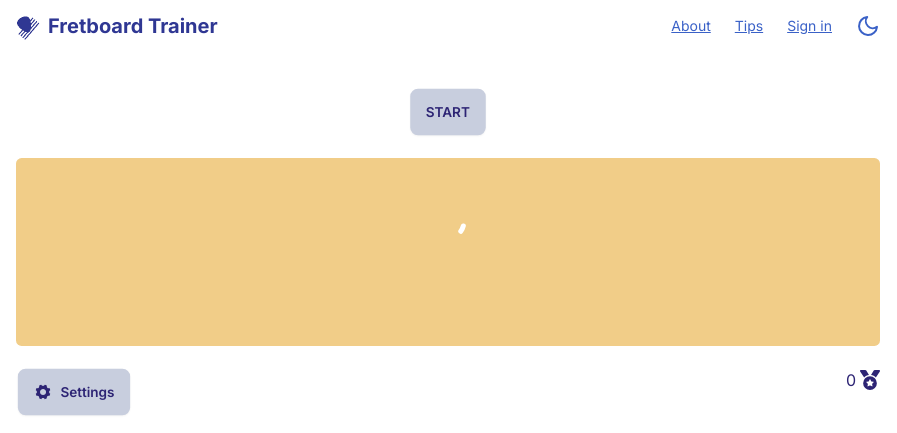
Scenario: Header Navigation › should navigate to the Sign-in page
The width and height of the screenshot is (897, 433).
What coordinates should you click on to do the following:
click the link "Sign in"
I would click on:
 (810, 26)
Its box is [787, 16, 832, 36].
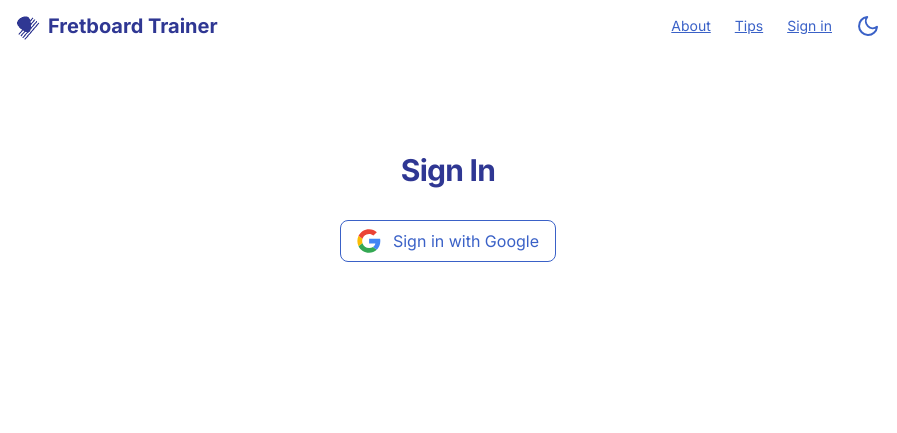
Expected: the heading "Sign In" is shown, [401, 152, 495, 188]
